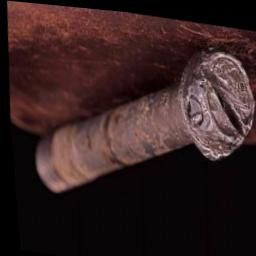Corroded-Bolt: (32, 40, 253, 194)
